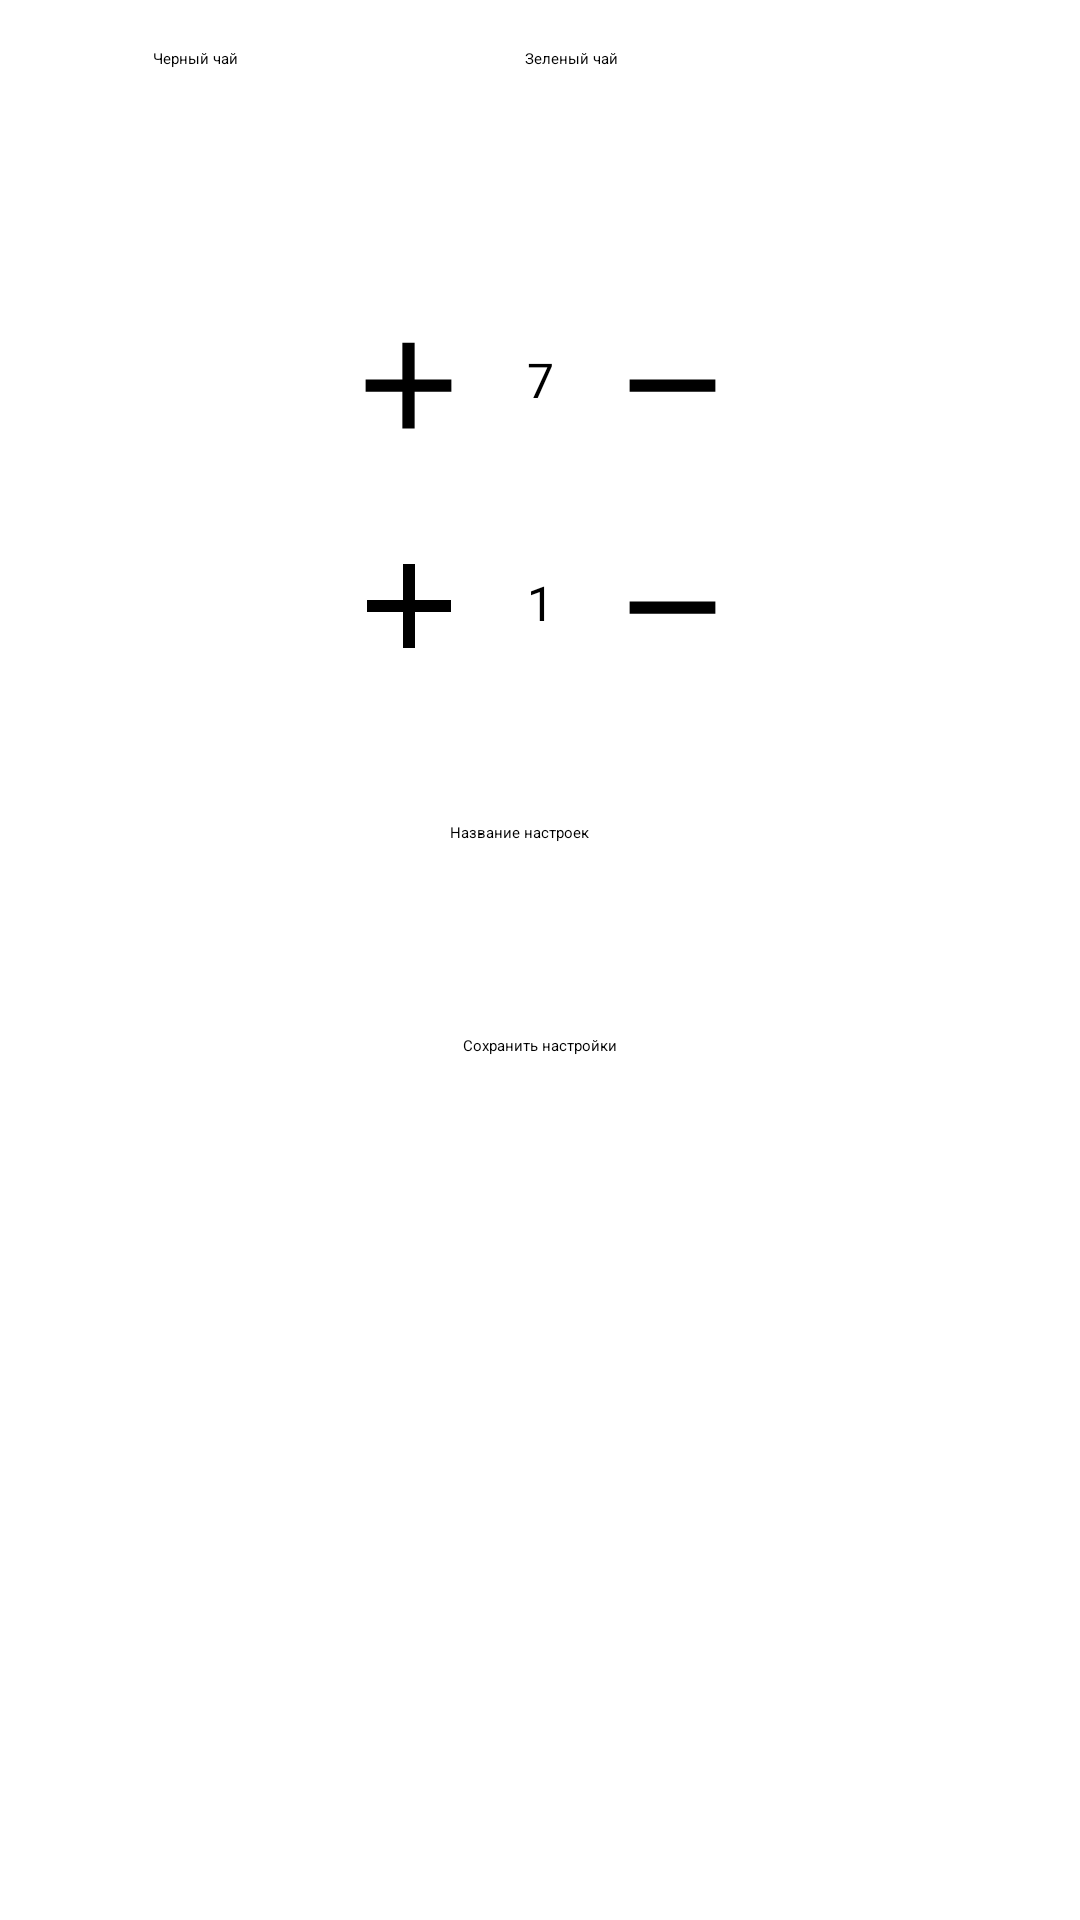

Named icons in this screenshot (1080 × 1920) and their bounding boxes, (x1, y1, x2, y2):
add: (365, 342, 452, 429), (367, 564, 451, 648)
